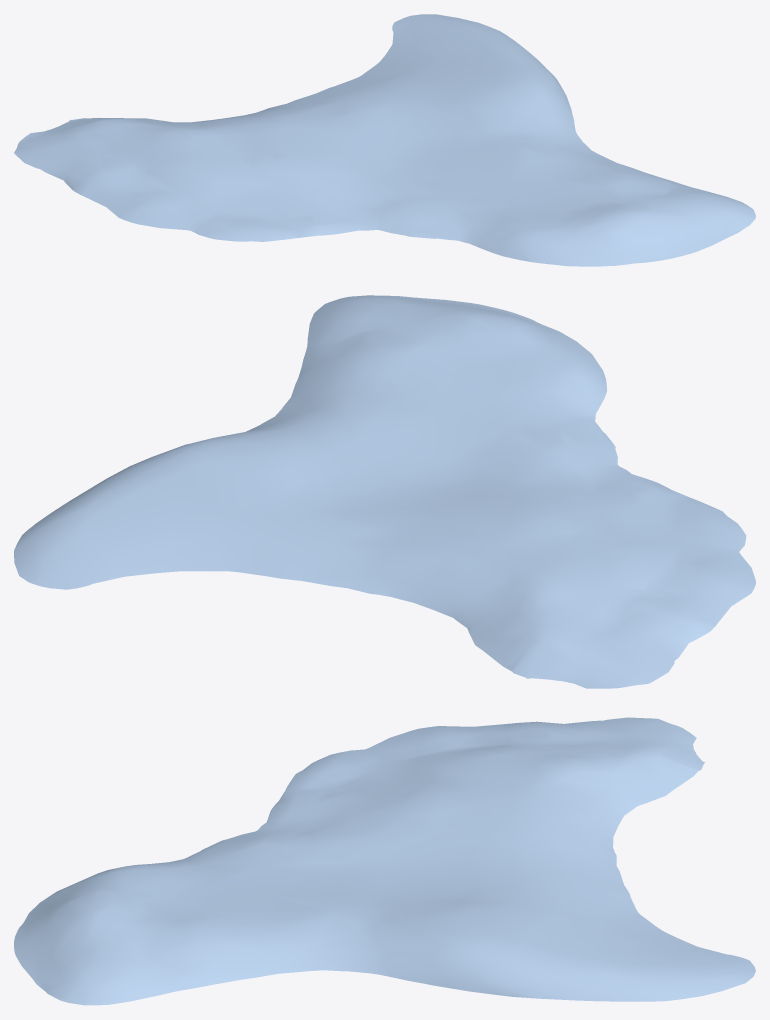
The model's file is IcePatchLarge_01.fbx.
3 renders of one model, top to bottom at view 1: azimuth 30°, elevation 25°; view 2: azimuth 150°, elevation 25°; view 3: azimuth 270°, elevation 25°, orthographic. The views are drawn at different scales.
Parts seen in each view (by area): view 1: IcePatchLarge_01.001; view 2: IcePatchLarge_01.001; view 3: IcePatchLarge_01.001.
Part boxes in pixels (x1,y1,x2,y2): IcePatchLarge_01.001: (14, 14, 755, 266); IcePatchLarge_01.001: (14, 295, 755, 688); IcePatchLarge_01.001: (14, 717, 755, 1005).
Bounding box in the file's own units: 2.69 × 0.1172 × 2.93.
